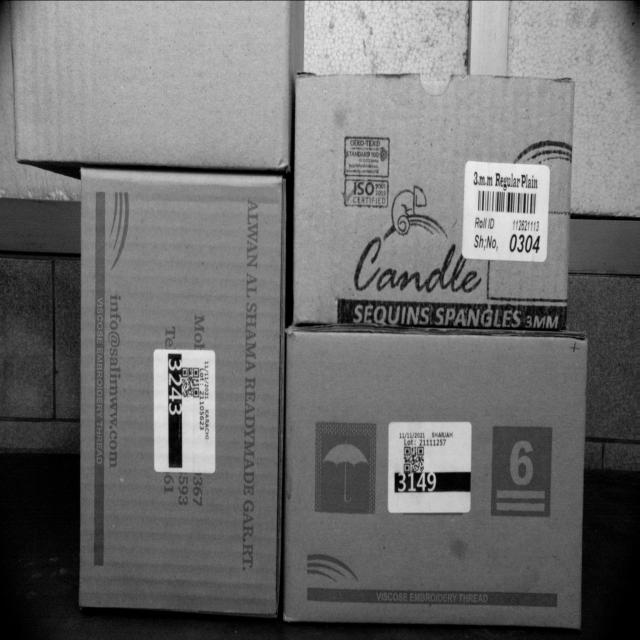cardboxes: (86, 177, 286, 604), (286, 332, 582, 617), (294, 78, 568, 326), (8, 0, 286, 165)
